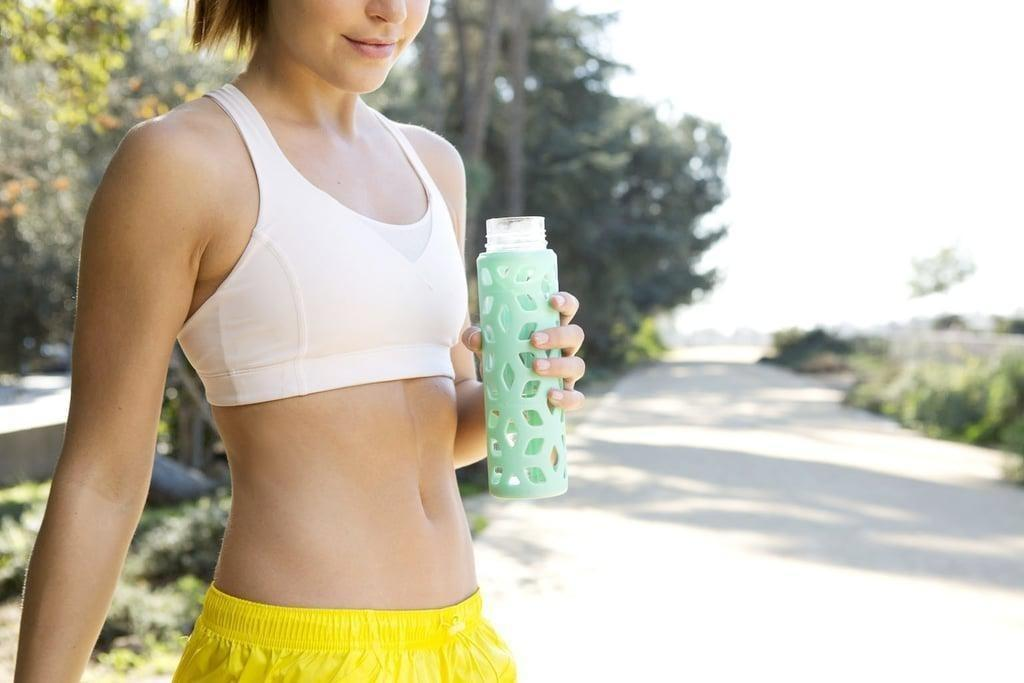gym bottle: (476, 212, 570, 499)
